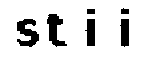i: (116, 2, 137, 50), (81, 6, 102, 53)
s: (14, 19, 39, 49)
t: (42, 11, 66, 52)
